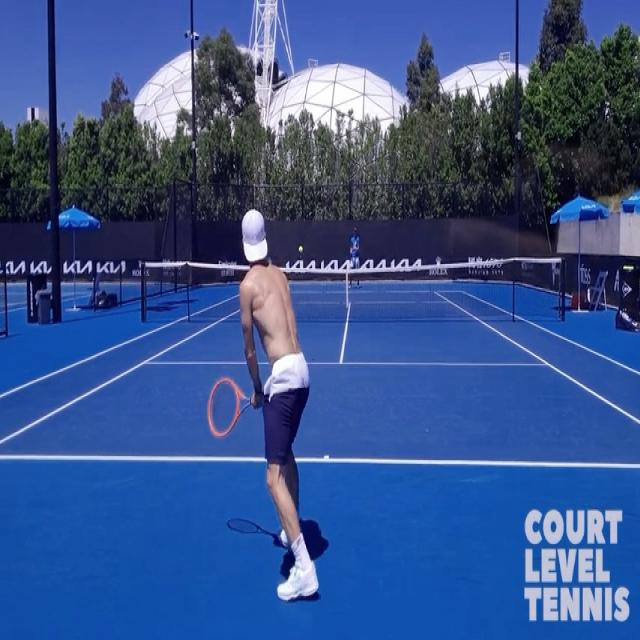backhand-ready: (208, 203, 319, 602)
